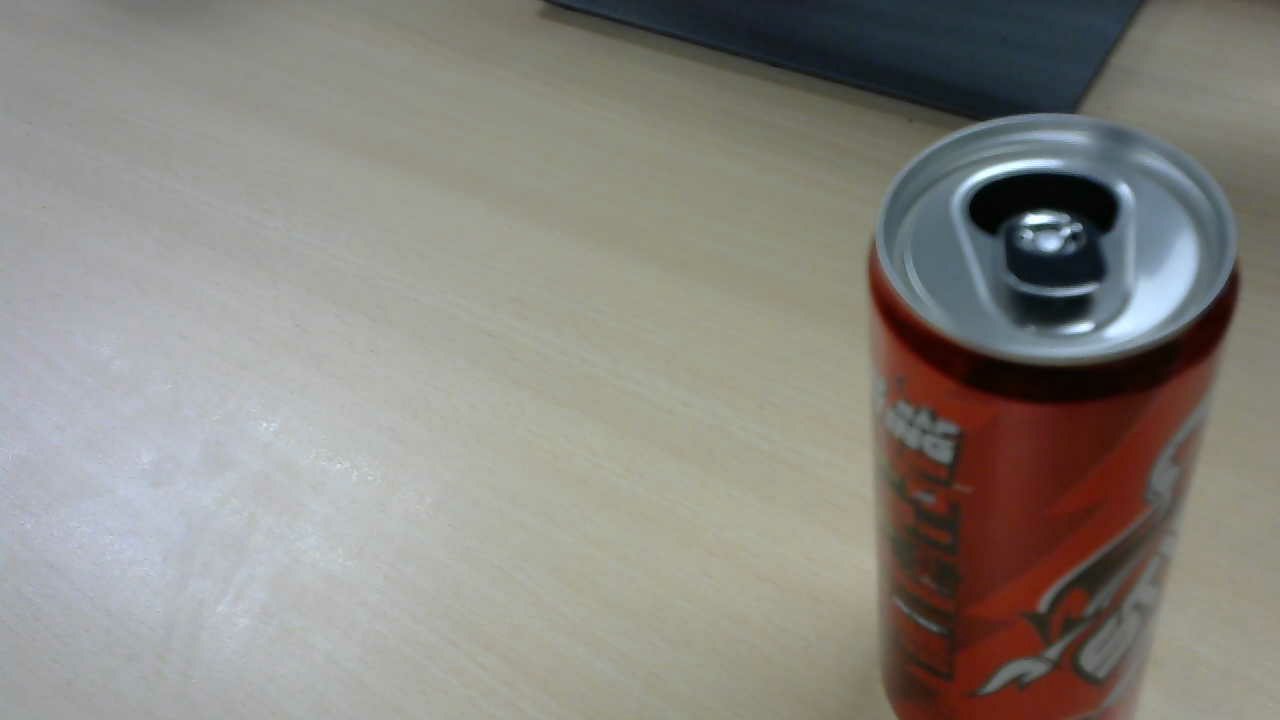Sting: (868, 111, 1249, 698)
